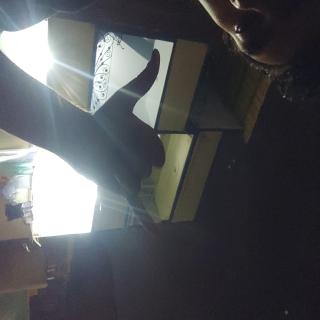YA: (33, 204, 178, 320)
